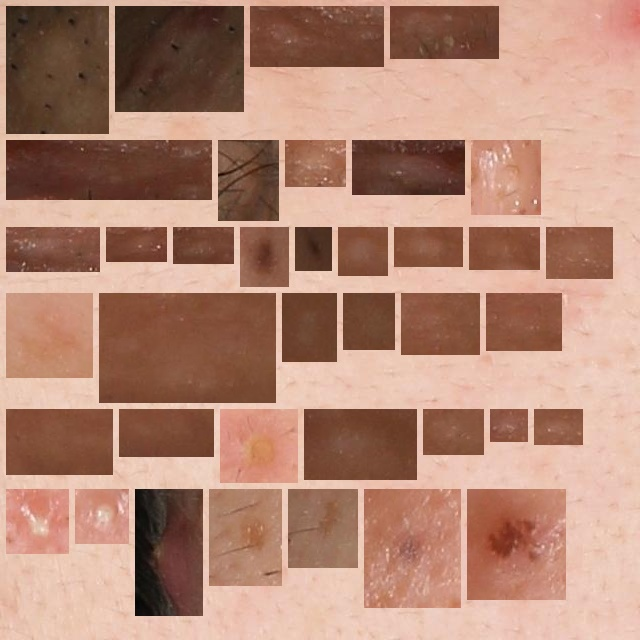hypertrophic_scar: (107, 301, 268, 395), (123, 14, 236, 104), (14, 14, 101, 126), (14, 148, 204, 192), (312, 417, 409, 472), (258, 14, 376, 59), (14, 417, 105, 467), (360, 148, 457, 187), (398, 14, 491, 51), (479, 148, 533, 207), (226, 148, 271, 213), (409, 301, 472, 347), (127, 417, 206, 449), (494, 301, 554, 343), (14, 235, 92, 264), (290, 301, 329, 354), (554, 235, 605, 271), (477, 235, 532, 262), (351, 301, 387, 342), (293, 148, 338, 179), (431, 417, 476, 447), (402, 235, 455, 259), (346, 235, 380, 268), (181, 235, 226, 256), (114, 235, 159, 254), (542, 417, 575, 437), (498, 417, 520, 434)
melasma: (372, 497, 453, 600), (14, 301, 85, 370), (217, 497, 274, 578), (296, 497, 350, 560)
nevus: (475, 497, 558, 592), (248, 235, 281, 279), (303, 235, 324, 263)
pustule: (143, 497, 195, 608), (228, 417, 290, 475), (14, 497, 61, 546), (83, 497, 121, 536)
